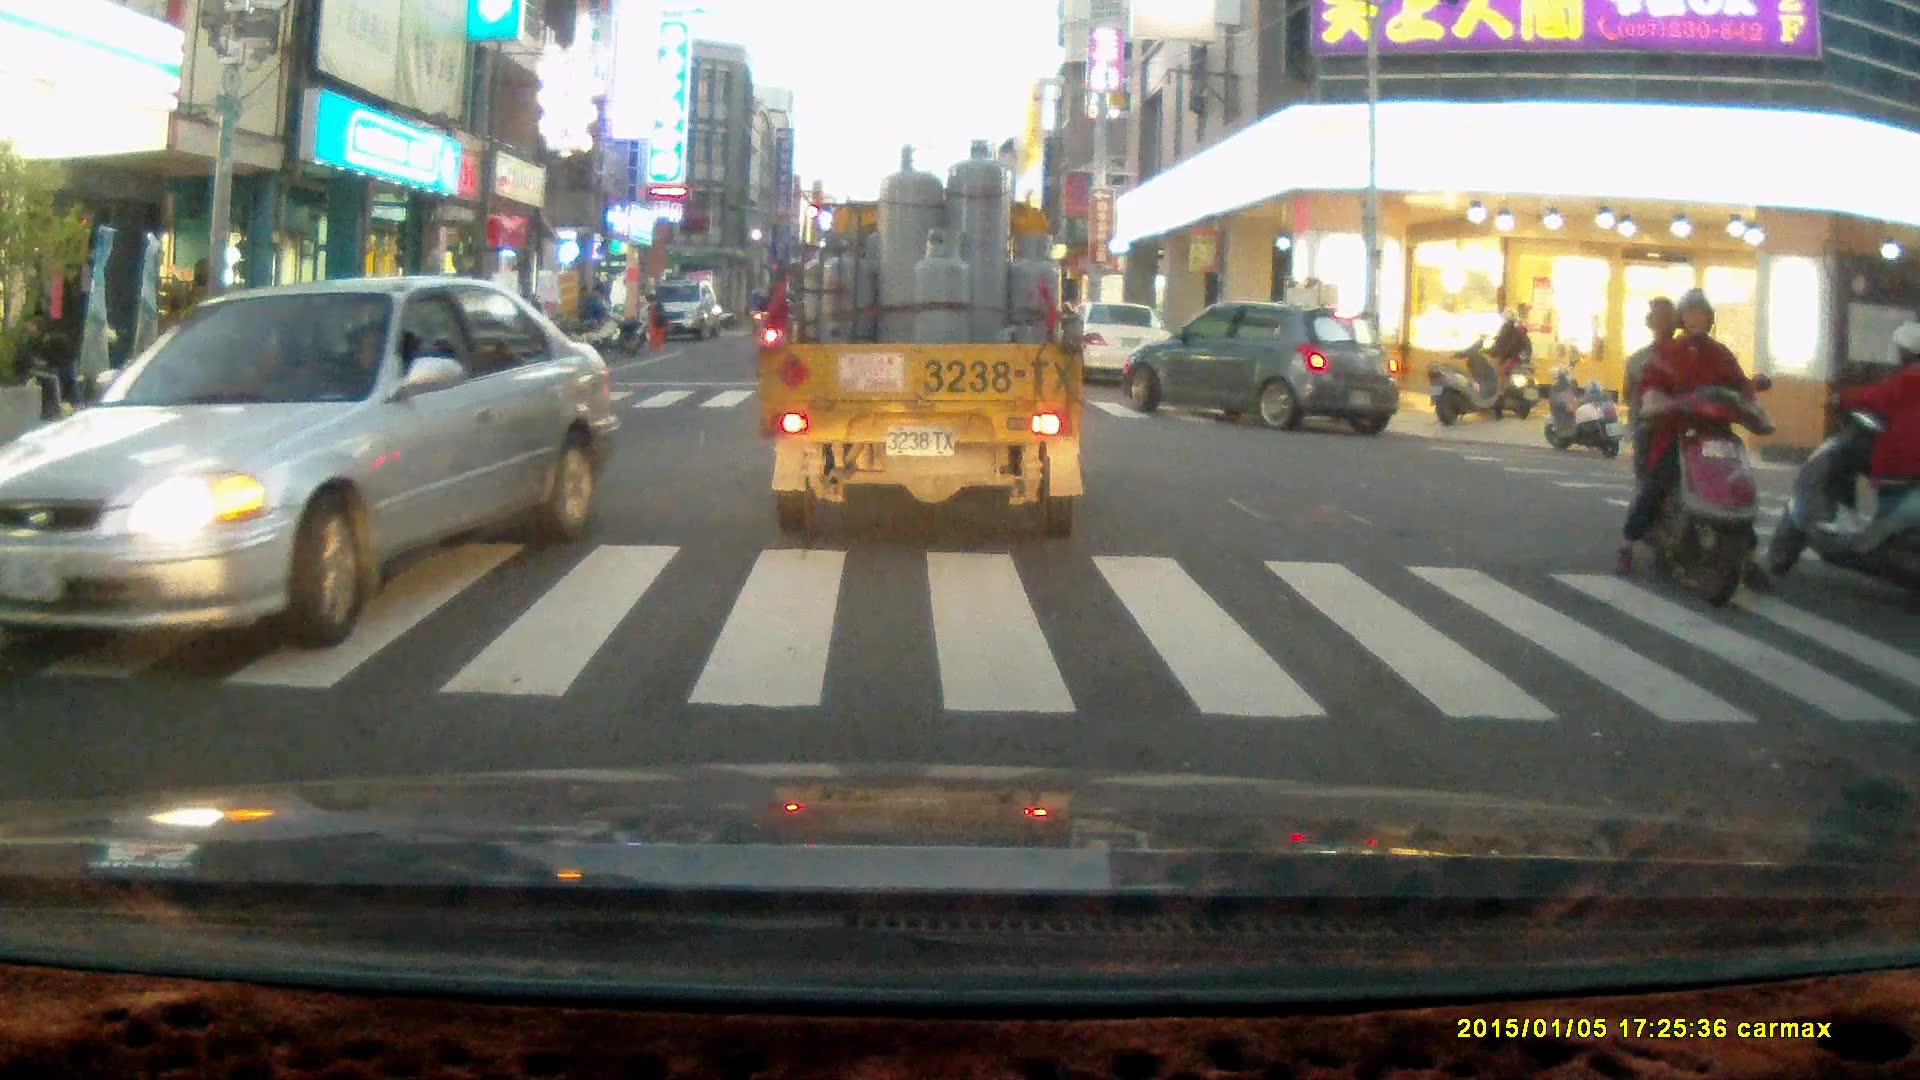pedestrian: (577, 282, 605, 346), (640, 291, 667, 351)
rider: (1605, 290, 1770, 610), (1771, 318, 1920, 609), (1478, 306, 1542, 422)
vehicle: (1, 277, 627, 649), (760, 137, 1088, 544), (1126, 302, 1406, 435), (1060, 302, 1182, 387), (639, 279, 717, 342)
